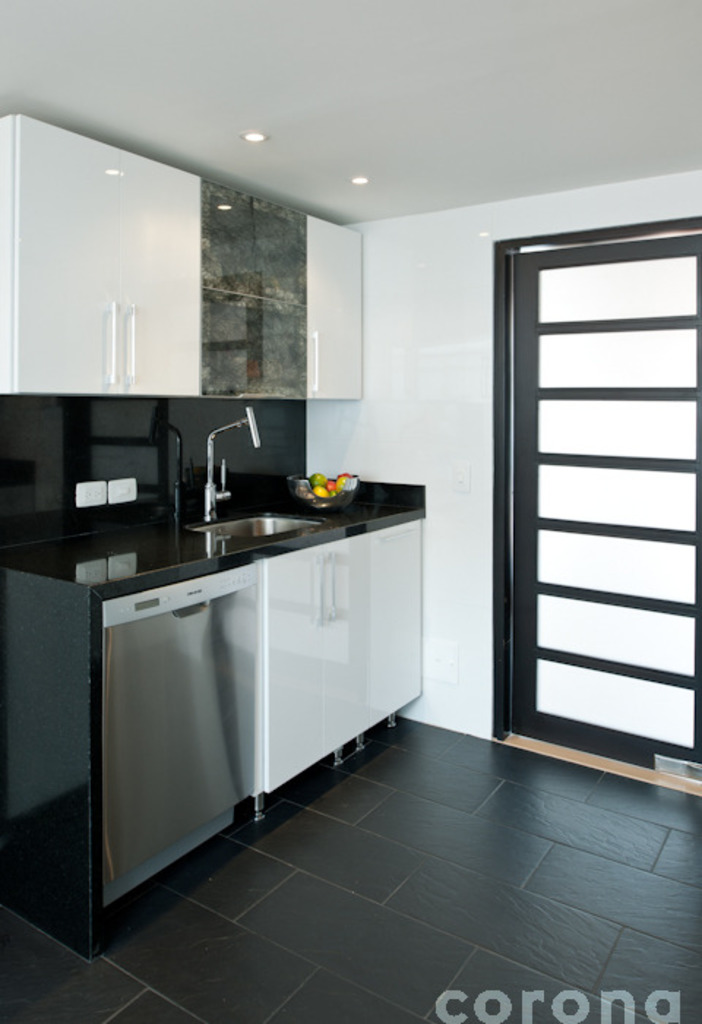tap: (195, 408, 257, 523)
